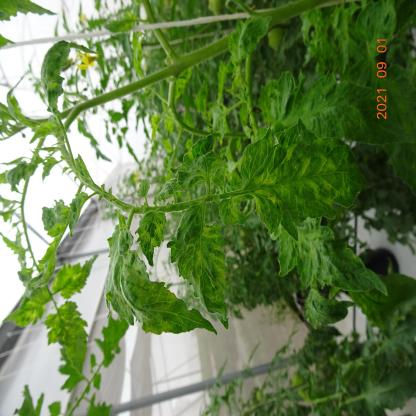T_L_R: (238, 120, 367, 242), (106, 214, 215, 335), (168, 203, 229, 329), (138, 212, 168, 266)
